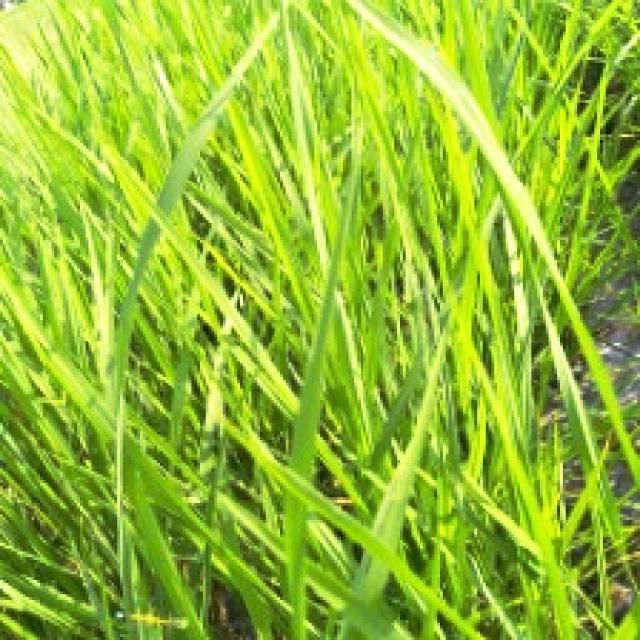health: (2, 10, 515, 220)
